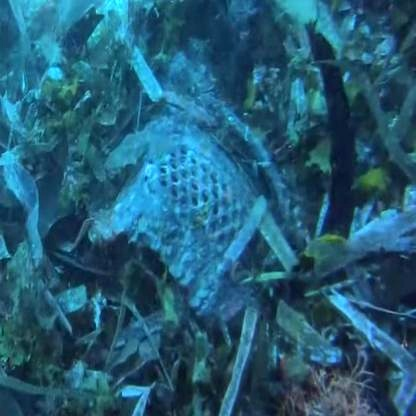misc: (165, 117, 297, 291)
